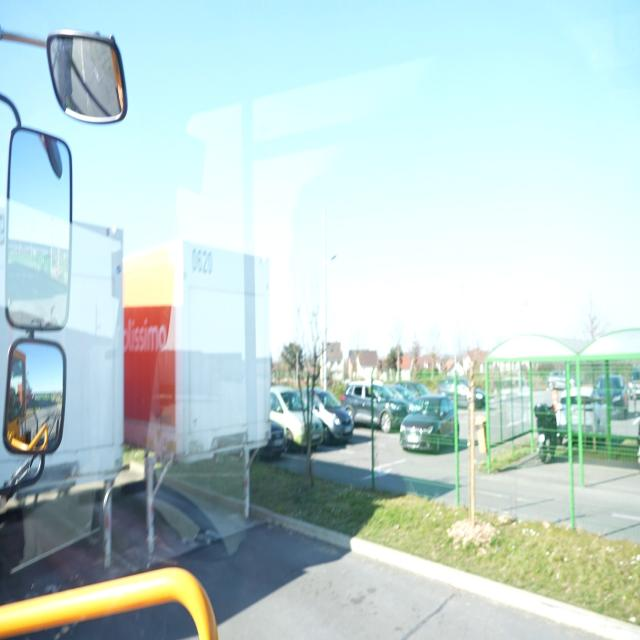Code: (189, 245, 217, 278)
